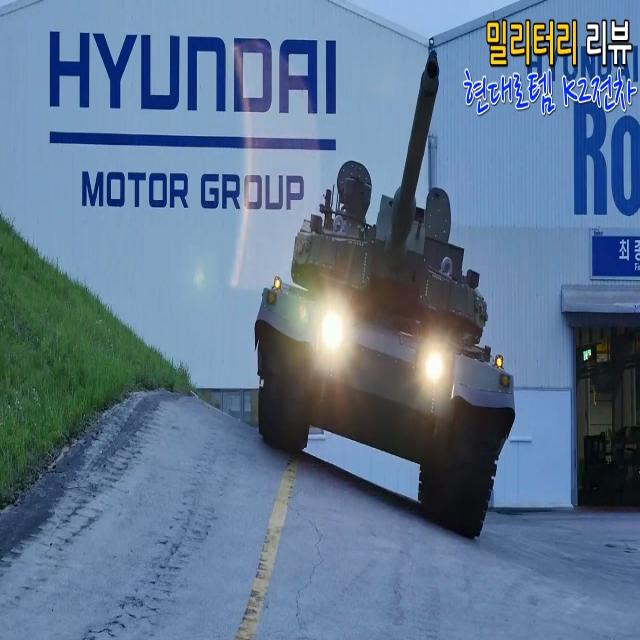korea tank: (254, 49, 516, 539)
